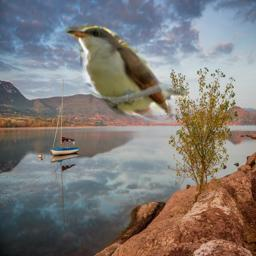Cuckoo: (62, 17, 187, 120)
